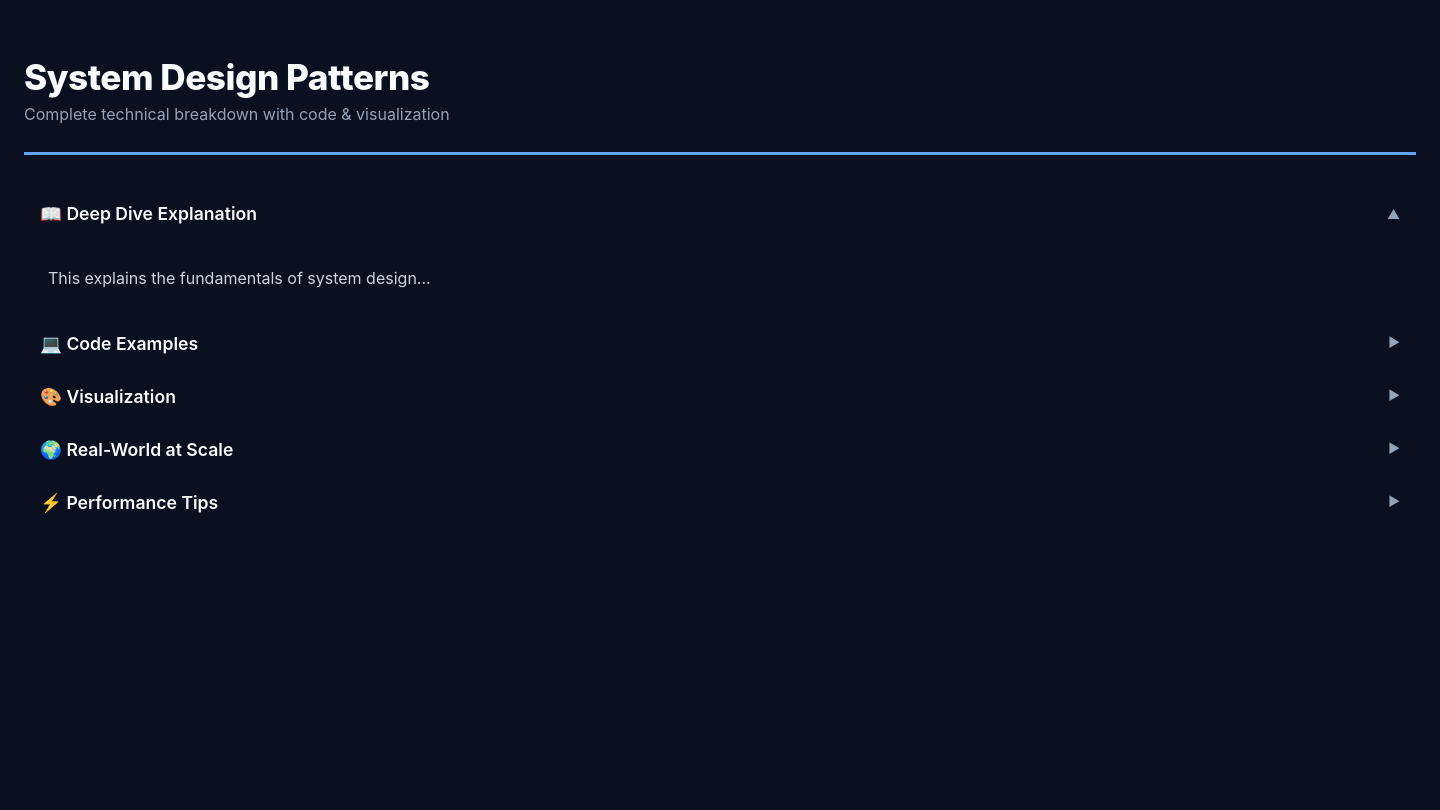
Test case: DetailedExplanation › renders list items for performance tips
Click the heading "⚡ Performance Tips" at point(129, 503), box [40,492,218,513]
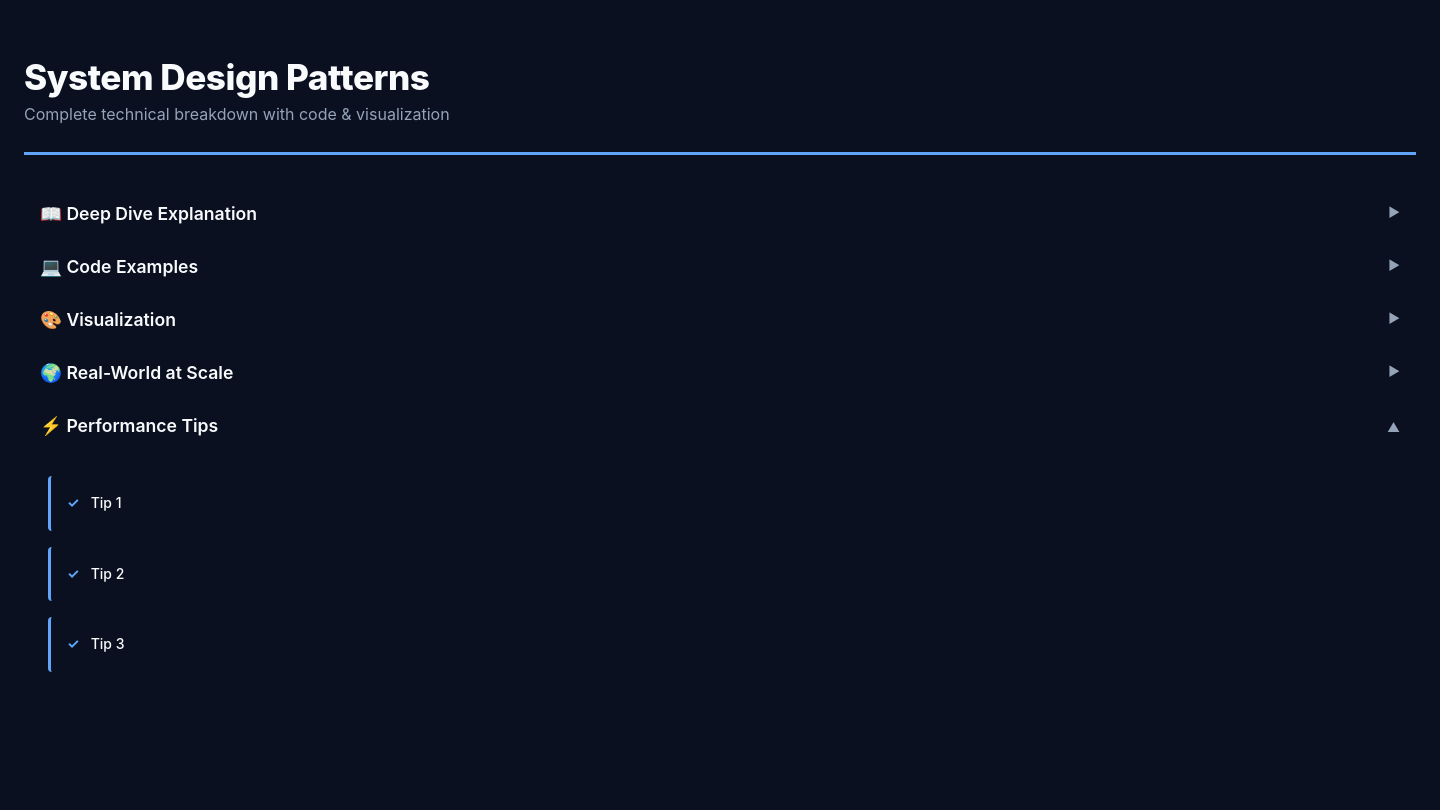
Now the list item "Tip 1" is shown, box [48,476,1392,531]
Now the list item "Tip 2" is shown, box [48,547,1392,601]
Now the list item "Tip 3" is shown, box [48,617,1392,672]
